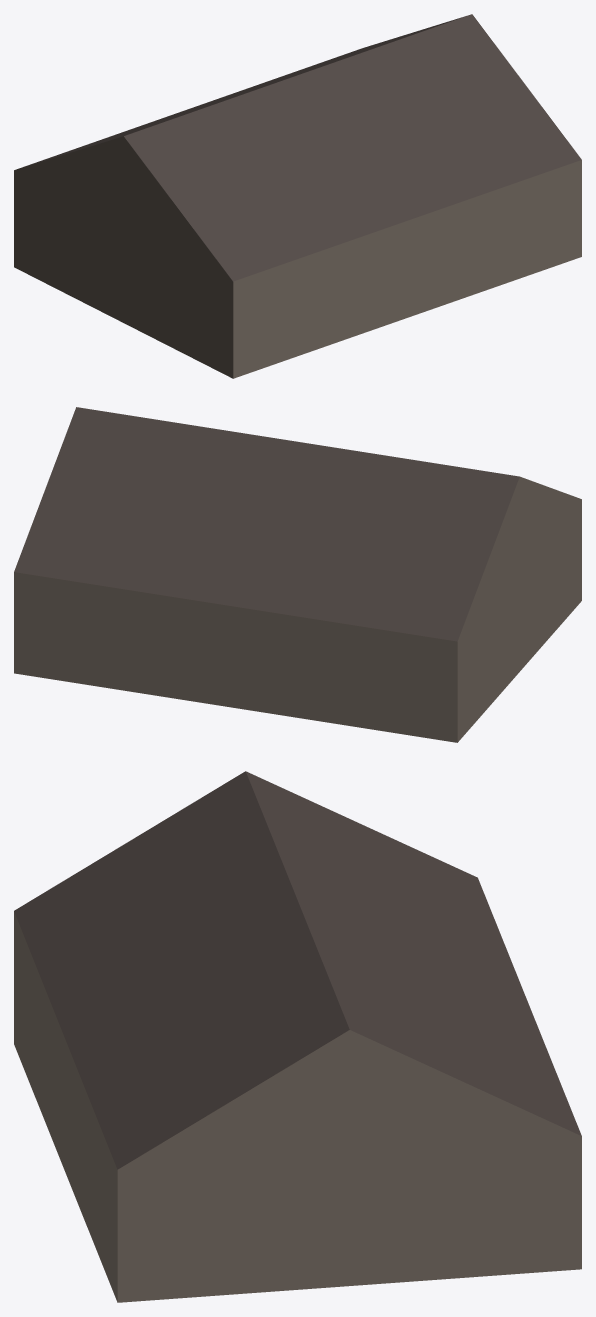
3 views of the same model, one above another, from view 1: azimuth 30°, elevation 25°; view 2: azimuth 150°, elevation 25°; view 3: azimuth 270°, elevation 25° (orthographic). The views are drawn at different scales.
Visible parts, largest first — view 1: HP-w389701958; view 2: HP-w389701958; view 3: HP-w389701958.
Boxes of the visible parts, <box> form: HP-w389701958: <box>14,14,581,378</box>; HP-w389701958: <box>14,407,581,742</box>; HP-w389701958: <box>14,771,581,1302</box>.
Size of the model in its own units: 14.13 by 5.78 by 11.61.
